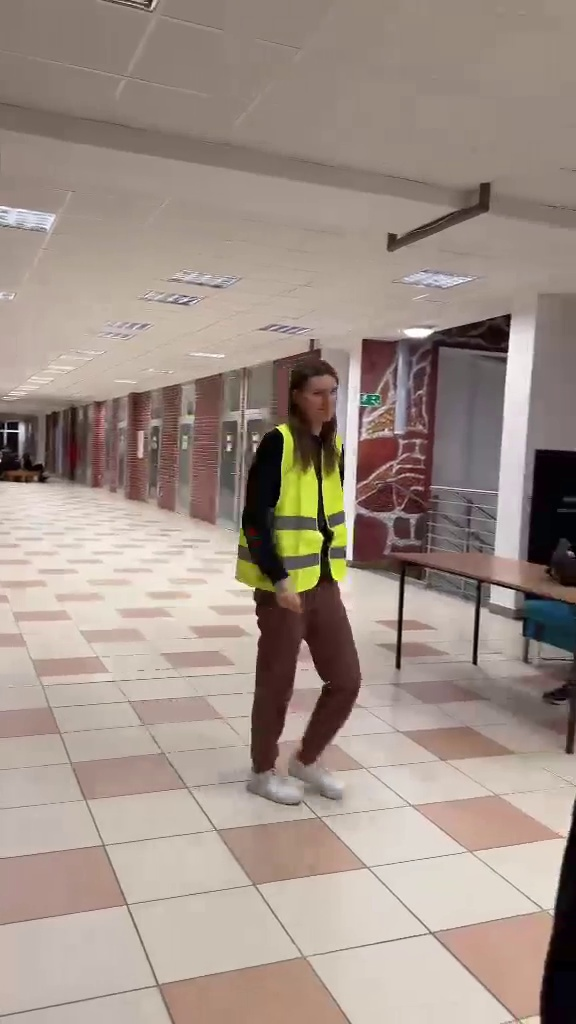vest: (240, 353, 363, 811)
